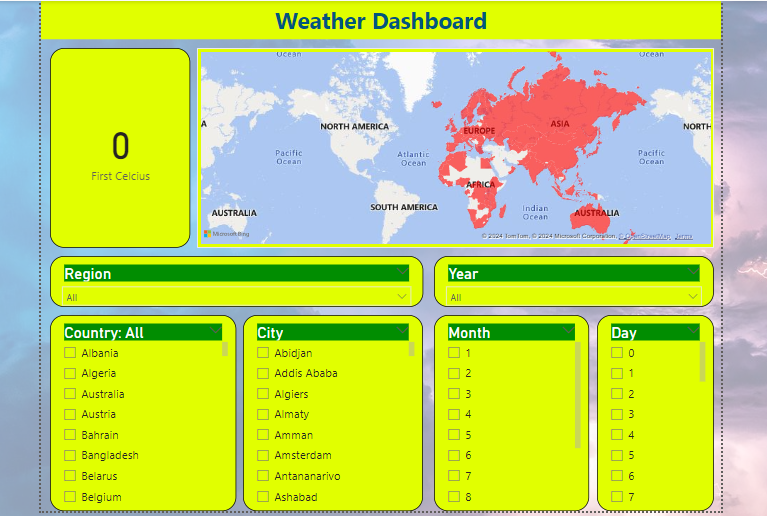

This screenshot's page, from the dashboard's own definition file:
{"tool":"powerbi","page":{"name":"Page 1","canvas":[960,720],"ordinal":0},"visuals":[{"type":"textbox","box":[0,0,960,53.6],"z":0},{"type":"filledMap","fields":{"Category":["city_temp_1.Country"]},"box":[220.2,66.4,729.9,282.4],"z":1},{"type":"slicer","fields":{"Values":["city_temp_1.Country"]},"box":[12.7,443.3,262.6,276.7],"z":2},{"type":"slicer","fields":{"Values":["city_temp_1.City"]},"box":[285.2,443.3,254.1,276.7],"z":3},{"type":"slicer","fields":{"Values":["city_temp_1.Region"]},"box":[12.7,360,526.6,72],"z":4},{"type":"slicer","fields":{"Values":["city_temp_1.Year"]},"box":[554.8,360,395.3,72],"z":5},{"type":"card","fields":{"Values":["Min(city_temp_1.Celcius)"]},"box":[12.7,66.4,197.6,282.4],"z":6},{"type":"slicer","fields":{"Values":["city_temp_1.Day"]},"box":[784.9,443.3,165.2,276.7],"z":7},{"type":"slicer","fields":{"Values":["city_temp_1.Month"]},"box":[554.8,443.3,218.8,276.7],"z":8}]}

Visuals, with their boxes in screenshot pixels (x1, y1, x2, y2):
textbox: box=[40, 0, 718, 38]
filledMap - city_temp_1.Country: box=[195, 47, 711, 246]
slicer - city_temp_1.Country: box=[49, 313, 234, 508]
slicer - city_temp_1.City: box=[241, 313, 421, 508]
slicer - city_temp_1.Region: box=[49, 254, 421, 305]
slicer - city_temp_1.Year: box=[432, 254, 711, 305]
card - Min(city_temp_1.Celcius): box=[49, 47, 188, 246]
slicer - city_temp_1.Day: box=[594, 313, 711, 508]
slicer - city_temp_1.Month: box=[432, 313, 586, 508]
